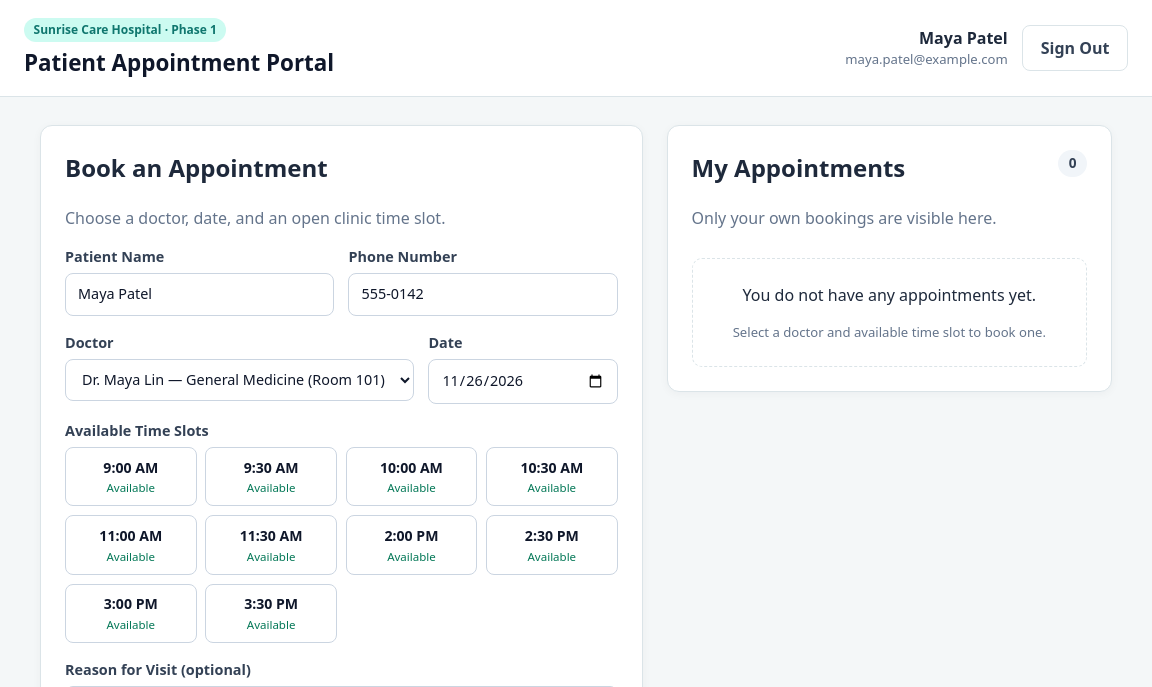
Test case: Phase 1 — Patient Booking and Cancellation › shows a clear message when the database rejects a duplicate doctor and time slot
What coordinates should you click on to do the following:
click the button "10:00 AM Available"
I would click on:
 (411, 477)
Its box is [346,447,477,506].
(page scrolled)
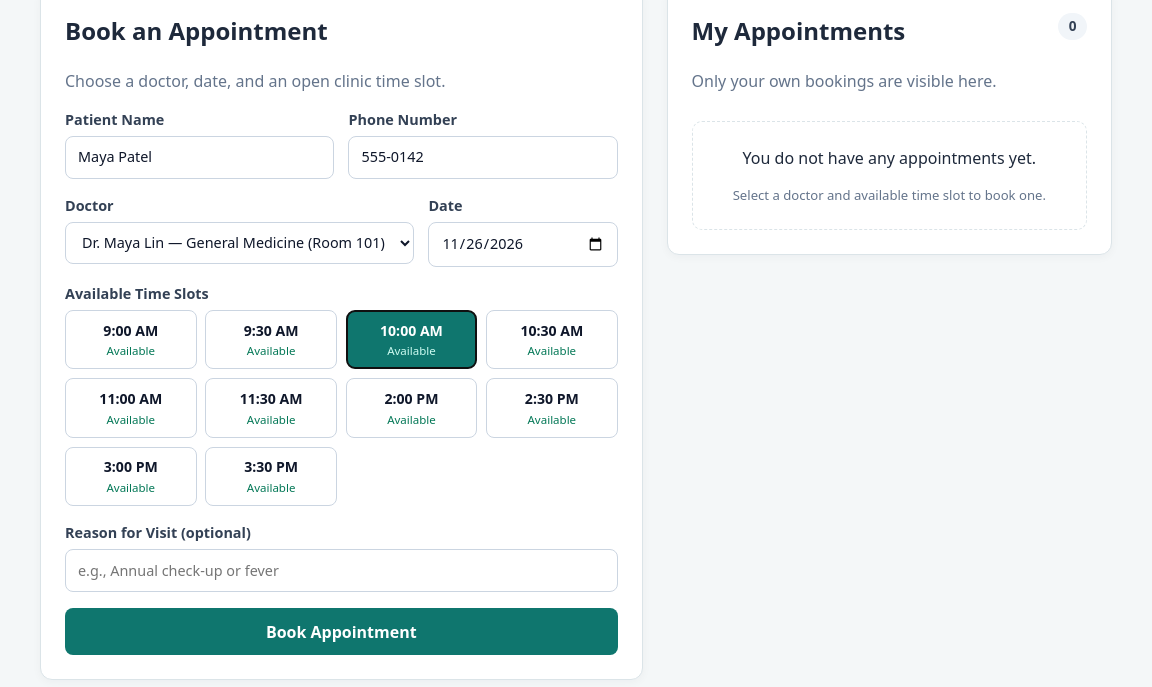
What coordinates should you click on to do the following:
click the button "Book Appointment"
I would click on:
 (341, 632)
Its box is [65,608,618,655].
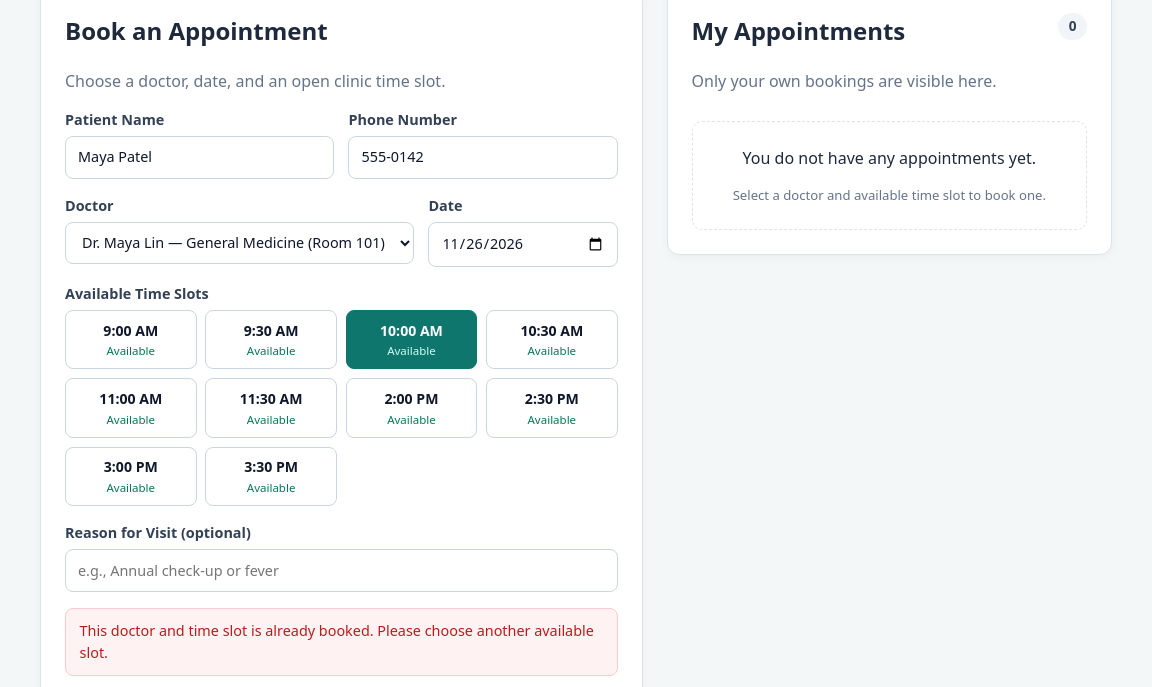
Expected: the text "already booked" is shown, [80,621,594,662]
